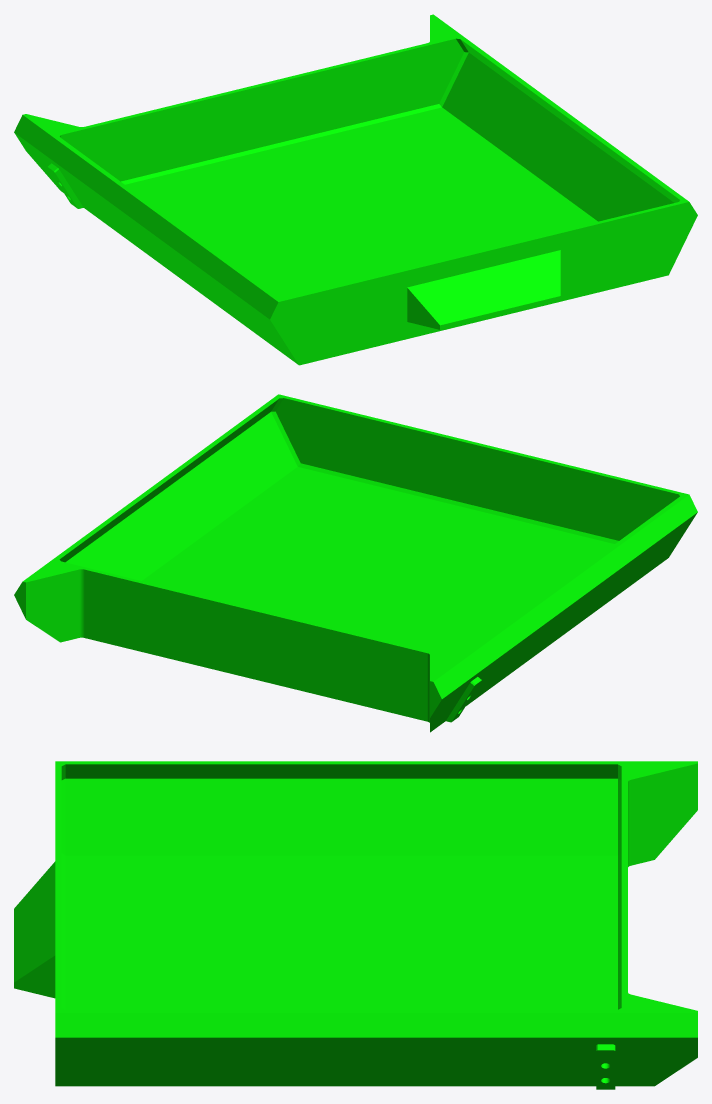
Rendered from under-drawer.glb.
The picture shows the model from 3 angles, top to bottom: view 1: azimuth 30°, elevation 25°; view 2: azimuth 150°, elevation 25°; view 3: azimuth 270°, elevation 25°; orthographic projection. The views are drawn at different scales.
Visible parts, largest first — view 1: Undermount Drawer v1.1.stl_fil1; view 2: Undermount Drawer v1.1.stl_fil1; view 3: Undermount Drawer v1.1.stl_fil1.
Boxes of the visible parts, <box> form: Undermount Drawer v1.1.stl_fil1: <box>14,14,697,365</box>; Undermount Drawer v1.1.stl_fil1: <box>14,394,697,732</box>; Undermount Drawer v1.1.stl_fil1: <box>14,761,697,1089</box>.
Size of the model in its own units: 0.1951 by 0.0298 by 0.215.
